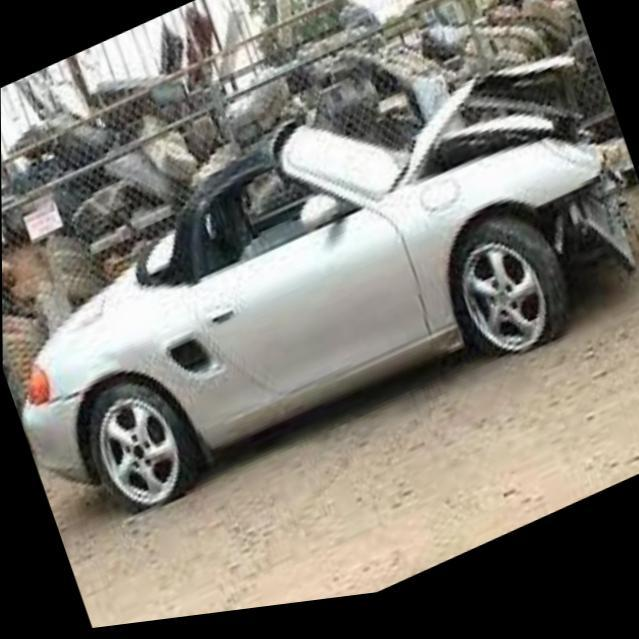crash: (394, 64, 639, 284)
